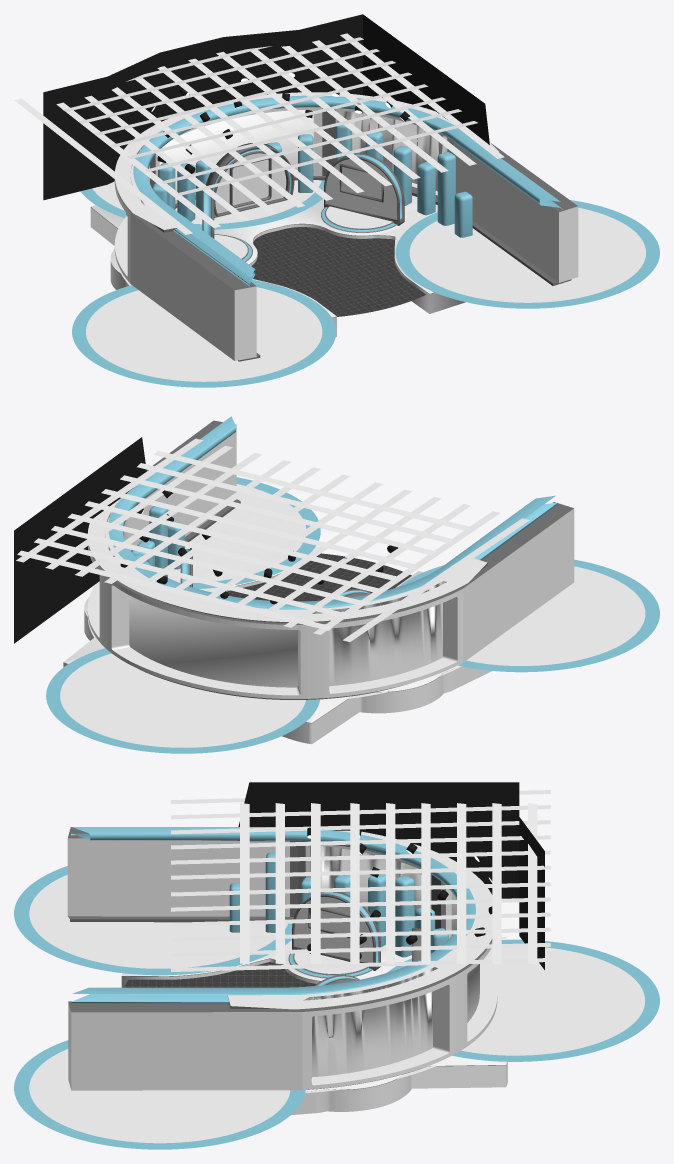
The model's file is choicer_voicer_studio_final_unfinished9.glb.
3 views of the same model, one above another, from view 1: azimuth 30°, elevation 25°; view 2: azimuth 150°, elevation 25°; view 3: azimuth 270°, elevation 25° (orthographic). The views are drawn at different scales.
Parts seen in each view (by area): view 1: FloorCircle, BackBorder_003, Ceiling_003, CeilingRafters_003, WallAndTopboard_004, Floor2_004, StepsBase_002, Waveform_003, FloorCircleCenter, ModuleTop_008, Circle_019, ModuleTop_007 (+2 smaller); view 2: BackBorder_003, CeilingRafters_003, WallAndTopboard_004, FloorCircle, FloorCircleCenter, Ceiling_003, StepsBase_002, Floor2_004, Waveform_003, CeilingLights_003; view 3: BackBorder_003, CeilingRafters_003, FloorCircle, WallAndTopboard_004, FloorCircleCenter, Ceiling_003, StepsBase_002, Waveform_003, Floor2_004, ModuleTop_008, ModuleTop_007, CeilingLights_003.
Boxes of the visible parts, <box> form: FloorCircle: <box>72,200,659,387</box>; BackBorder_003: <box>114,92,578,361</box>; Ceiling_003: <box>43,14,489,200</box>; CeilingRafters_003: <box>14,33,504,234</box>; WallAndTopboard_004: <box>130,95,562,359</box>; Floor2_004: <box>251,227,425,316</box>; StepsBase_002: <box>90,195,465,336</box>; Waveform_003: <box>152,121,472,237</box>; FloorCircleCenter: <box>80,180,324,229</box>; ModuleTop_008: <box>326,159,397,219</box>; Circle_019: <box>215,153,286,213</box>; ModuleTop_007: <box>202,153,404,237</box>; BackBorder_003: <box>87,420,574,699</box>; CeilingRafters_003: <box>16,438,529,641</box>; WallAndTopboard_004: <box>105,416,558,687</box>; FloorCircle: <box>168,477,659,672</box>; FloorCircleCenter: <box>46,648,319,753</box>; Ceiling_003: <box>14,437,146,643</box>; StepsBase_002: <box>63,546,491,744</box>; Floor2_004: <box>227,553,411,601</box>; Waveform_003: <box>131,506,184,577</box>; CeilingLights_003: <box>120,490,398,604</box>; BackBorder_003: <box>67,827,497,1092</box>; CeilingRafters_003: <box>171,790,550,971</box>; FloorCircle: <box>14,866,305,1149</box>; WallAndTopboard_004: <box>71,827,479,1077</box>; FloorCircleCenter: <box>387,939,659,1061</box>; Ceiling_003: <box>238,782,544,969</box>; StepsBase_002: <box>121,937,507,1114</box>; Waveform_003: <box>229,852,448,957</box>; Floor2_004: <box>124,962,316,987</box>; ModuleTop_008: <box>294,897,373,962</box>; ModuleTop_007: <box>292,892,380,986</box>; CeilingLights_003: <box>307,827,492,959</box>.
Size of the model in its own units: 83.08 by 21.31 by 76.17.
9 materials, 1 textured.
